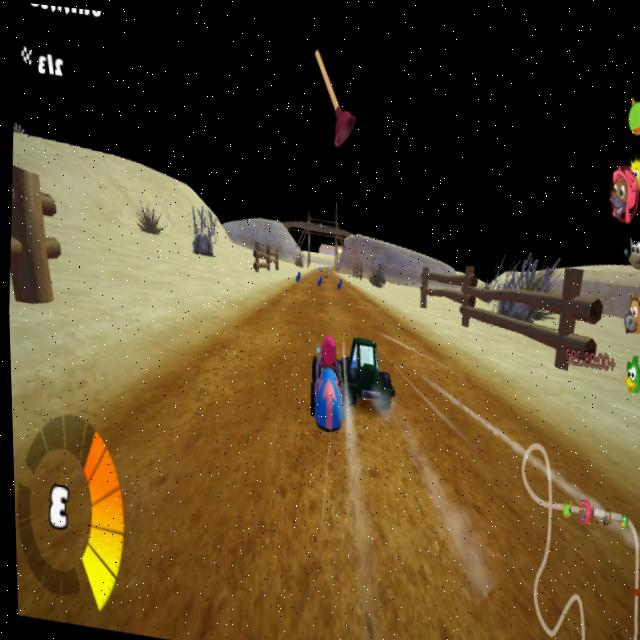enemy_kart: (339, 328, 393, 411)
nitro: (292, 265, 301, 279), (335, 267, 342, 280), (315, 269, 320, 278)
off_track: (7, 145, 262, 326), (356, 243, 571, 309)
player_kart: (303, 328, 345, 431)
track: (276, 276, 382, 328)
